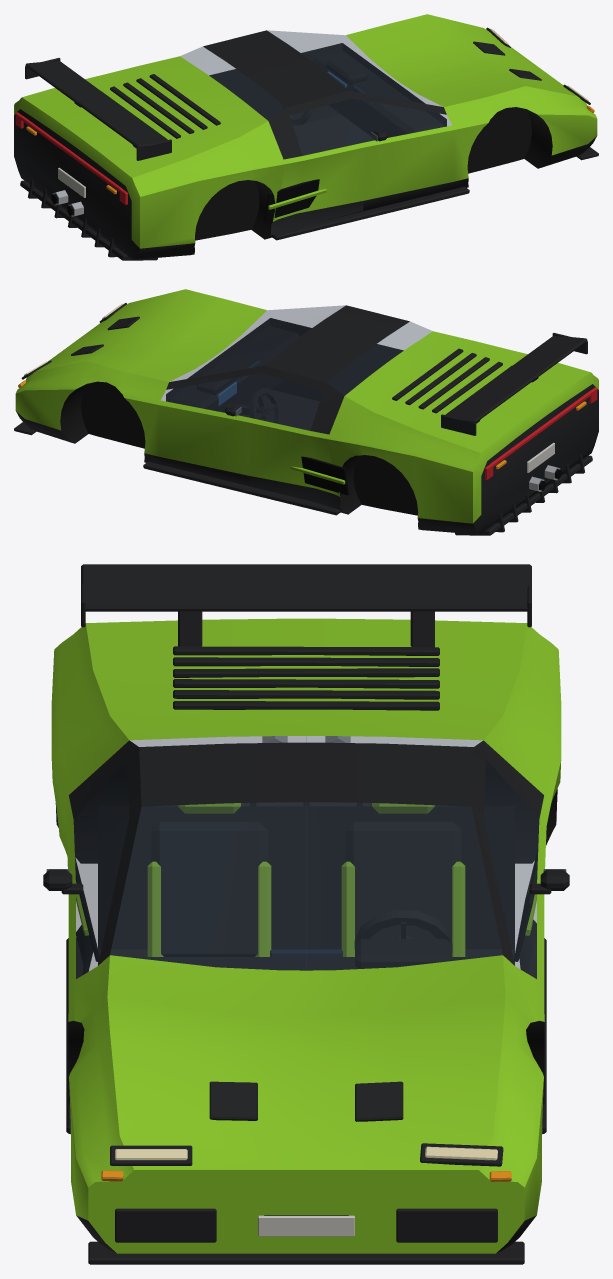
Rendered from phantom.glb.
3 views of the same model, one above another, from view 1: azimuth 30°, elevation 25°; view 2: azimuth 150°, elevation 25°; view 3: azimuth 270°, elevation 25° (orthographic). The views are drawn at different scales.
Parts seen in each view (by area): view 1: Body, Glass, Interior, Details, TailLights; view 2: Body, Glass, Interior, Details, TailLights; view 3: Body, Glass, Interior, Details, HeadLights.
Part boxes in pixels (<box>): Body: <box>14,14,598,260</box>; Glass: <box>180,30,451,155</box>; Interior: <box>209,43,446,155</box>; Details: <box>25,58,171,257</box>; TailLights: <box>15,112,127,204</box>; Body: <box>14,289,598,535</box>; Glass: <box>161,305,432,430</box>; Interior: <box>166,318,403,430</box>; Details: <box>441,333,587,532</box>; TailLights: <box>485,387,597,479</box>; Body: <box>43,618,569,1264</box>; Glass: <box>74,736,538,978</box>; Interior: <box>98,803,514,970</box>; Details: <box>81,564,531,806</box>; HeadLights: <box>115,1146,497,1160</box>.
Bounding box in the file's own units: 4.6 × 1.18 × 2.17.
